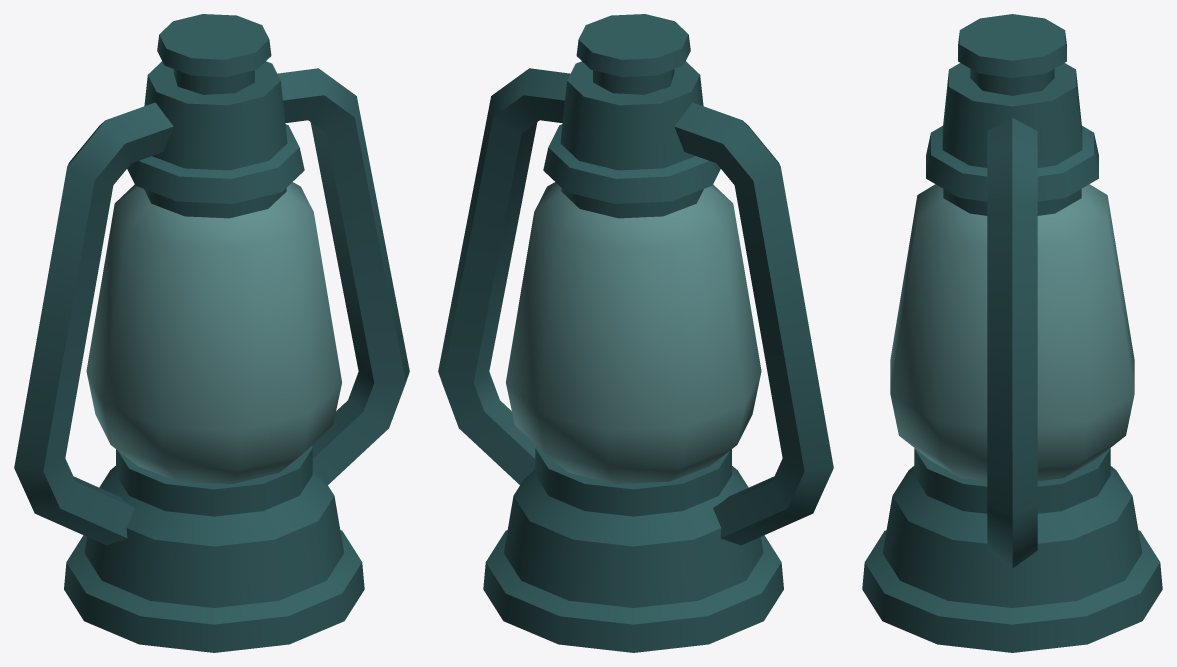
The model's file is SM_OilLantern.fbx.
The picture shows the model from 3 angles, left to right: view 1: azimuth 30°, elevation 25°; view 2: azimuth 150°, elevation 25°; view 3: azimuth 270°, elevation 25°; orthographic projection.
Parts seen in each view (by area): view 1: SM_OilLantern; view 2: SM_OilLantern; view 3: SM_OilLantern.
Part boxes in pixels (left/top/right/bottom): SM_OilLantern: left=14, top=14, right=409, bottom=652; SM_OilLantern: left=438, top=14, right=833, bottom=652; SM_OilLantern: left=862, top=14, right=1162, bottom=652.
Size of the model in its own units: 32.9 by 43.89 by 21.66.
